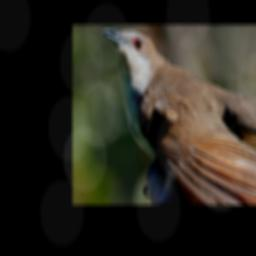Cuckoo: (101, 29, 256, 205)
